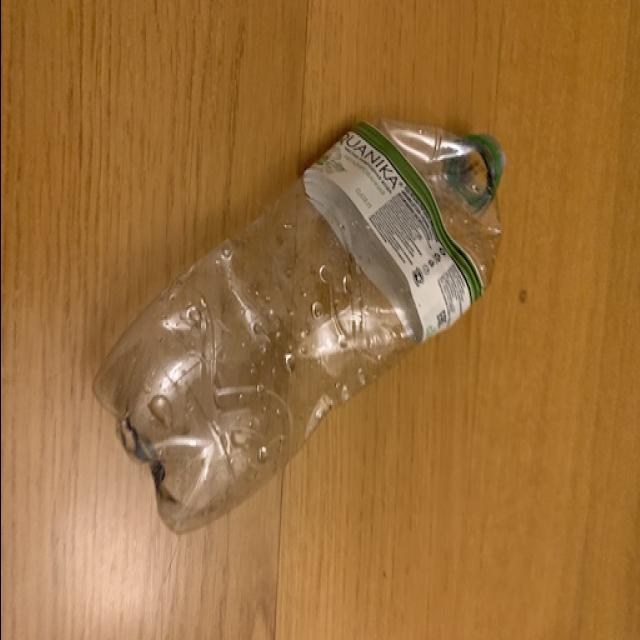litter: (85, 114, 506, 538)
